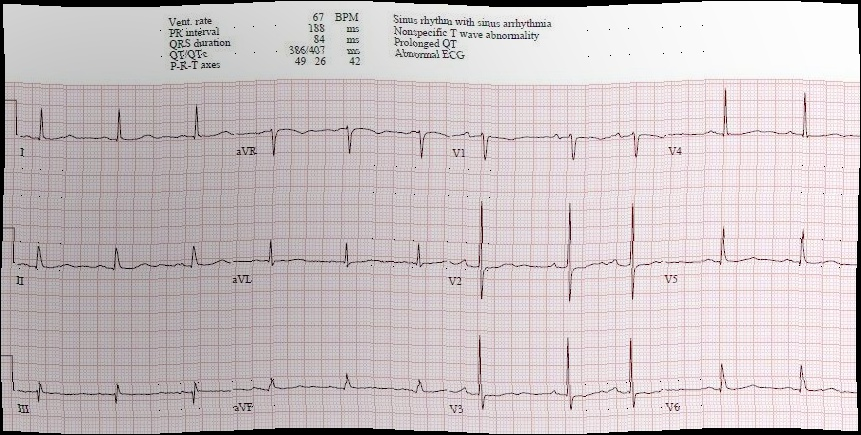Lead_I: (13, 96, 233, 159)
Lead_II: (11, 231, 234, 290)
Lead_III: (14, 365, 233, 421)
Lead_V1: (450, 111, 668, 169)
Lead_V2: (446, 189, 667, 306)
Lead_V3: (449, 321, 668, 428)
Lead_V4: (669, 81, 861, 161)
Lead_V5: (666, 219, 861, 298)
Lead_V6: (668, 357, 861, 427)
Lead_aVF: (232, 365, 449, 423)
Lead_aVL: (232, 230, 449, 294)
Lead_aVR: (229, 107, 450, 162)
